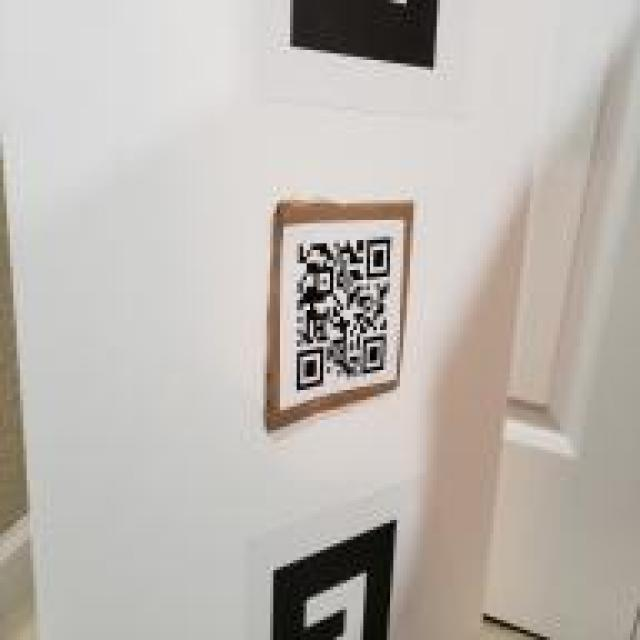QR_CODE: (286, 227, 396, 400)
